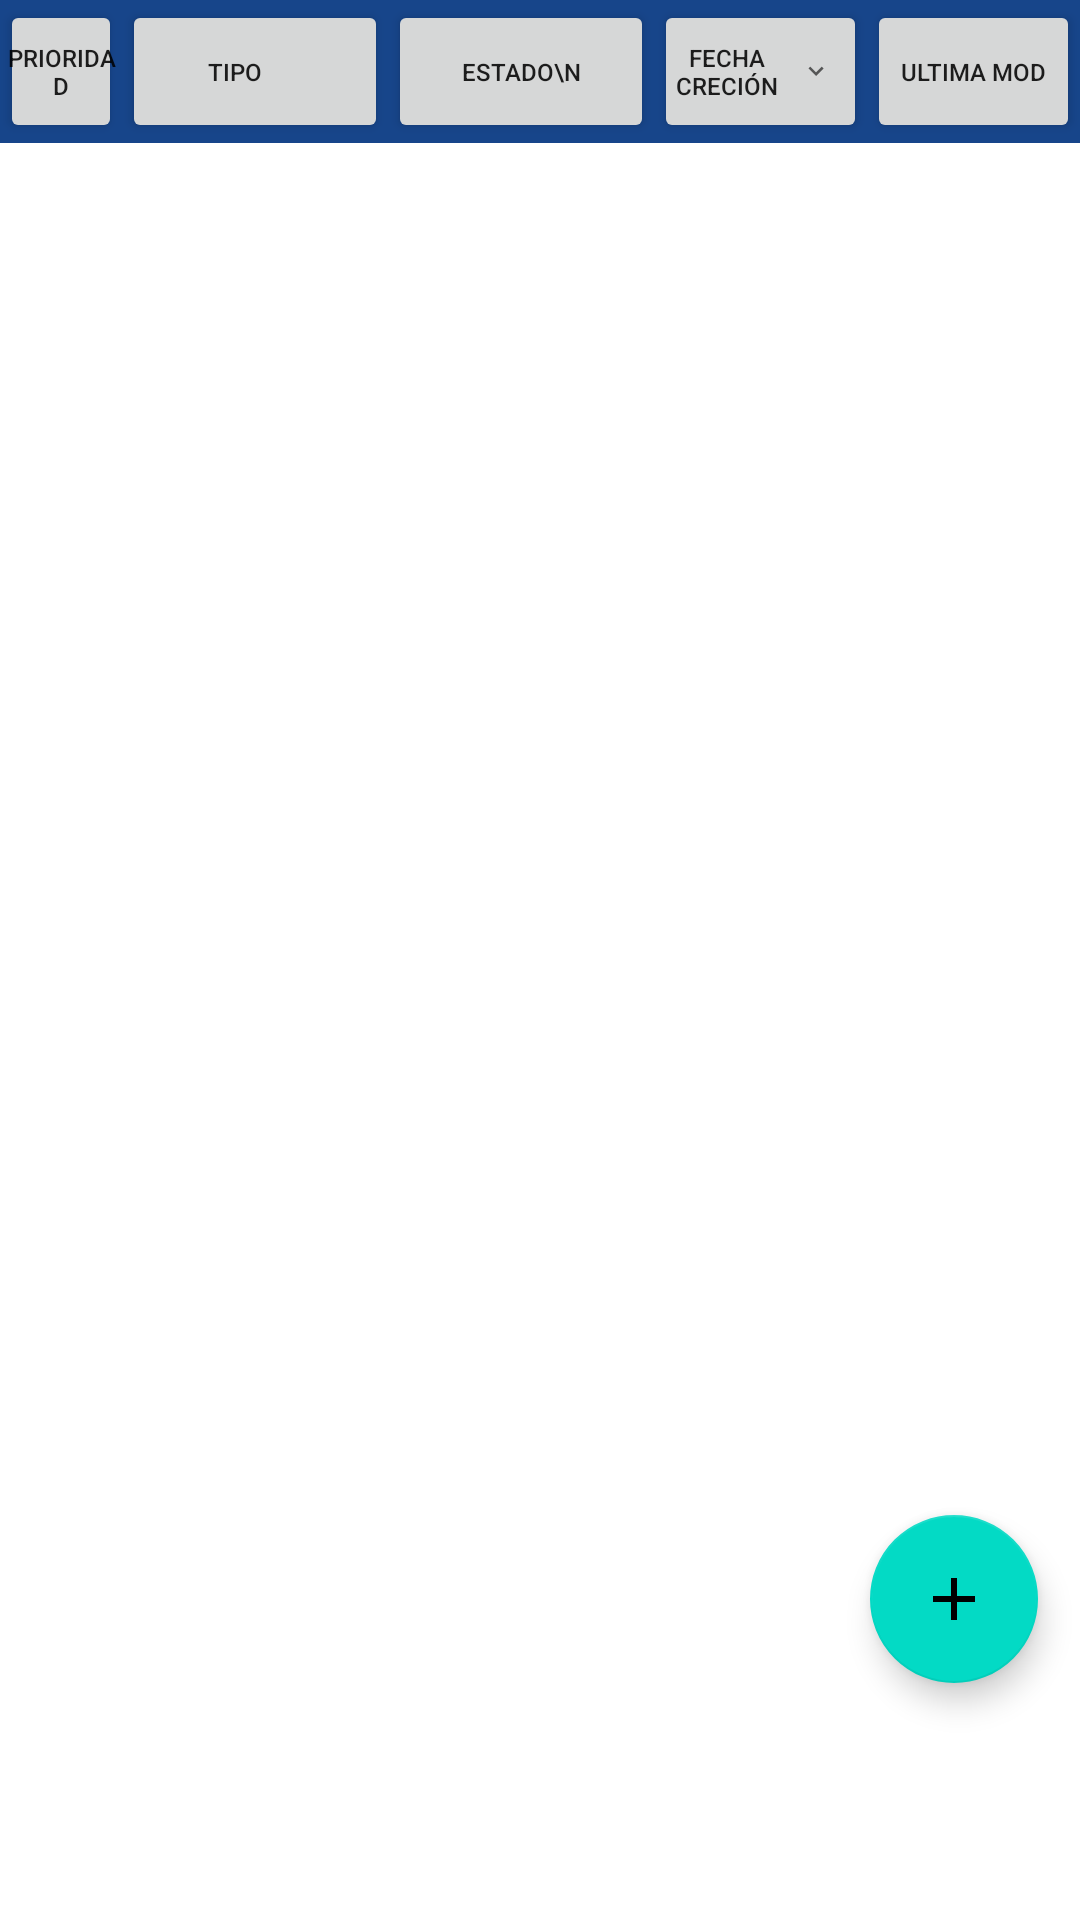

Where icons sit on this 1080x1920 app screen, as (x1,y1,x2,y2):
add cliente: (870,1515,1038,1683)
